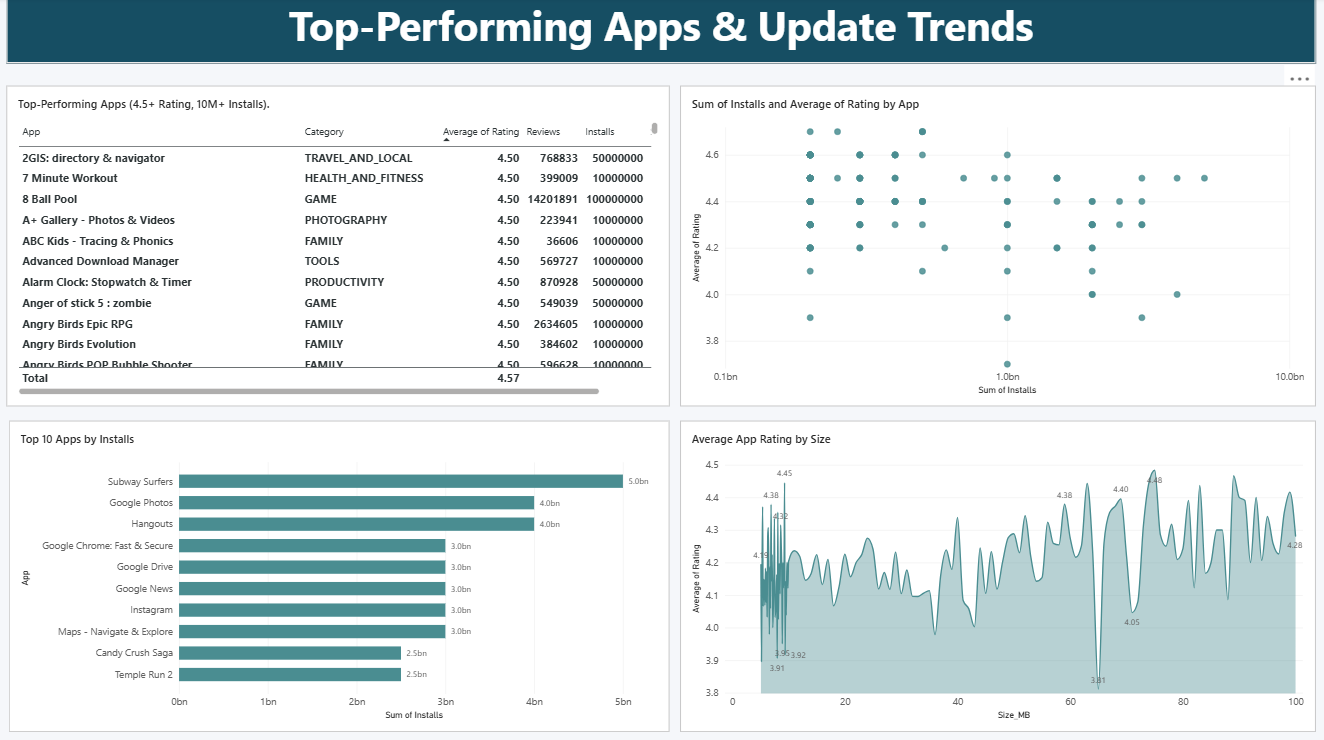

The dashboard page shown, as its layout file describes it:
{"tool":"powerbi","page":{"name":"App Performance","canvas":[1920,1080],"ordinal":3},"visuals":[{"type":"textbox","box":[10.3,0,1895.7,96.7],"z":0},{"type":"tableEx","title":"Top-Performing Apps (4.5+ Rating, 10M+ Installs).","fields":{"Values":["google_play_store vw_top_performing_apps.App","google_play_store vw_top_performing_apps.Category","Avg(google_play_store vw_top_performing_apps.Rating)","google_play_store vw_top_performing_apps.Reviews","google_play_store vw_top_performing_apps.Installs","Sum(google_play_store vw_top_performing_apps.Price)"]},"box":[10,128,960,464],"z":1000},{"type":"clusteredBarChart","title":"Top 10 Apps by Installs","fields":{"Category":["apps.App"],"Y":["Sum(apps.Installs)"]},"box":[14,614,956,450],"z":2000},{"type":"scatterChart","fields":{"Category":["apps.App"],"X":["Sum(apps.Installs)"],"Y":["Avg(apps.Rating)"]},"box":[986,128,920,464],"z":3000},{"type":"areaChart","title":"Average App Rating by Size","fields":{"Category":["apps.Size_MB"],"Y":["Avg(apps.Rating)"]},"box":[986,614,920,450],"z":4000}]}

Visuals, with their boxes in screenshot pixels (x1, y1, x2, y2), scaled from the page's 1920x1080 canvas onto the 1324x740 screenshot:
textbox: <region>7, 0, 1314, 66</region>
"Top-Performing Apps (4.5+ Rating, 10M+ Installs)." tableEx: <region>7, 88, 669, 406</region>
"Top 10 Apps by Installs" clusteredBarChart: <region>10, 421, 669, 729</region>
scatterChart - apps.App x Sum(apps.Installs): <region>680, 88, 1314, 406</region>
"Average App Rating by Size" areaChart: <region>680, 421, 1314, 729</region>
